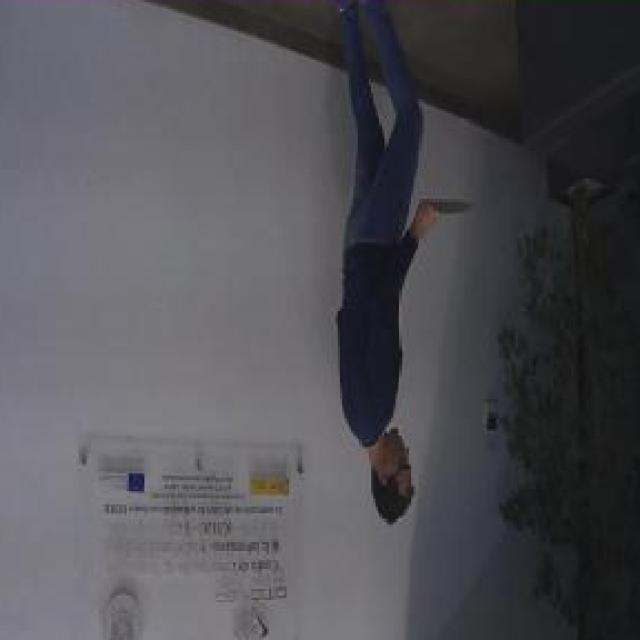knife: (426, 195, 474, 229)
